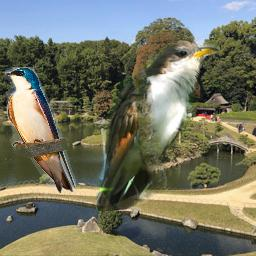Cuckoo: (96, 39, 220, 211)
Swallow: (5, 67, 76, 193)
